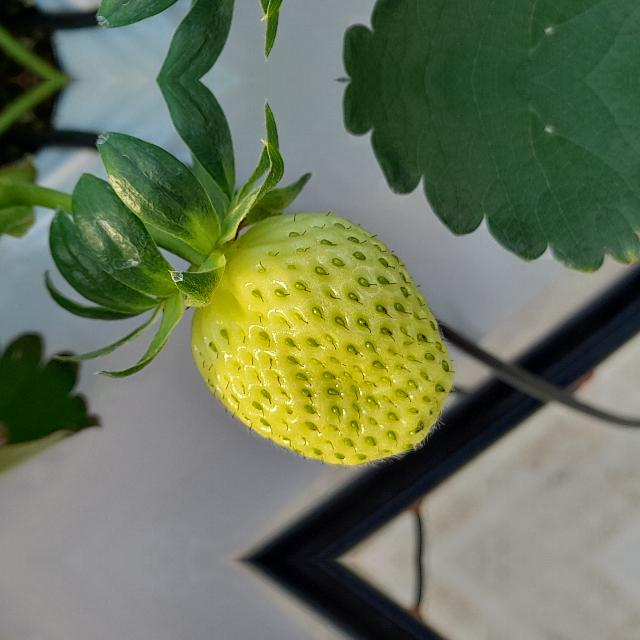Health_25: (190, 210, 454, 466)
